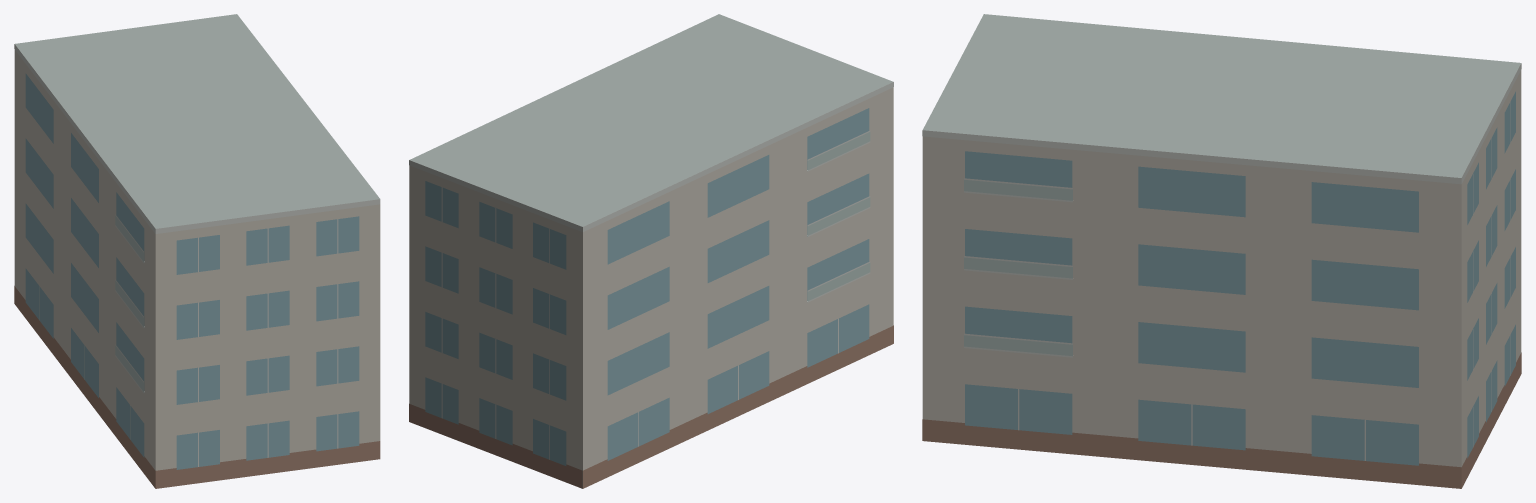
The model's file is survey-upis-32674699.glb.
3 views of the same model, side by side, from view 1: azimuth 30°, elevation 25°; view 2: azimuth 150°, elevation 25°; view 3: azimuth 270°, elevation 25° (orthographic). The views are drawn at different scales.
Visible parts, largest first — view 1: survey-upis-32674699.tmp; view 2: survey-upis-32674699.tmp; view 3: survey-upis-32674699.tmp.
Part boxes in pixels (box(x1,y1,x2,y2)): survey-upis-32674699.tmp: box(14, 14, 380, 488); survey-upis-32674699.tmp: box(409, 14, 893, 488); survey-upis-32674699.tmp: box(922, 14, 1521, 488).
Size of the model in its own units: 13.83 by 12.2 by 21.32.
